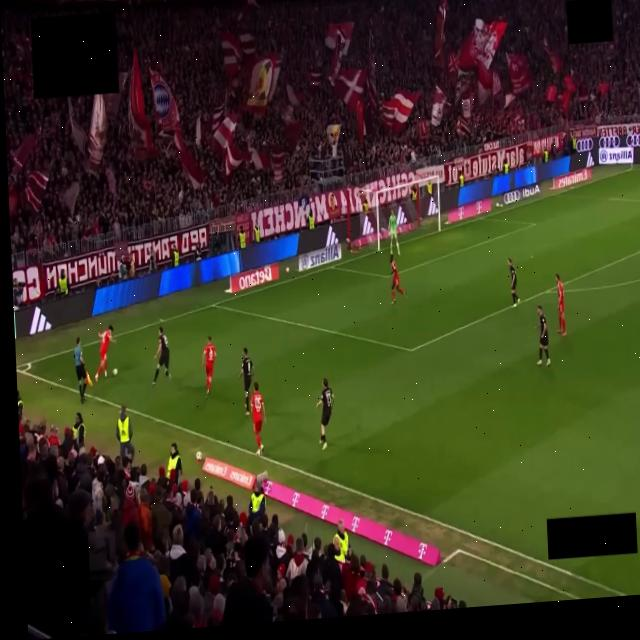ball: (112, 369, 117, 376)
player: (316, 378, 333, 450), (152, 326, 170, 385), (250, 382, 264, 455), (238, 348, 252, 415), (95, 326, 112, 381), (390, 254, 406, 304), (202, 337, 215, 398), (536, 305, 549, 366), (555, 274, 566, 336), (507, 259, 519, 306), (388, 210, 399, 254)
